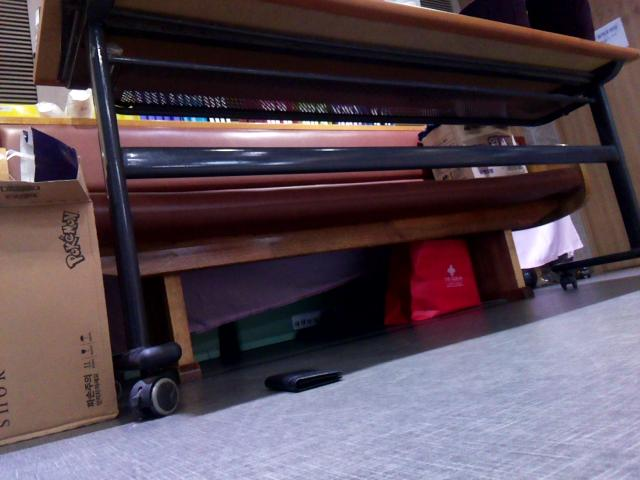wallet: (261, 364, 347, 396)
